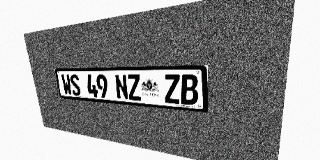4: (85, 74, 98, 97)
9: (96, 74, 109, 98)
B: (180, 74, 198, 105)
N: (114, 74, 129, 100)
S: (69, 74, 81, 96)
W: (61, 74, 73, 95)
Z: (163, 74, 181, 104), (127, 74, 142, 101)
